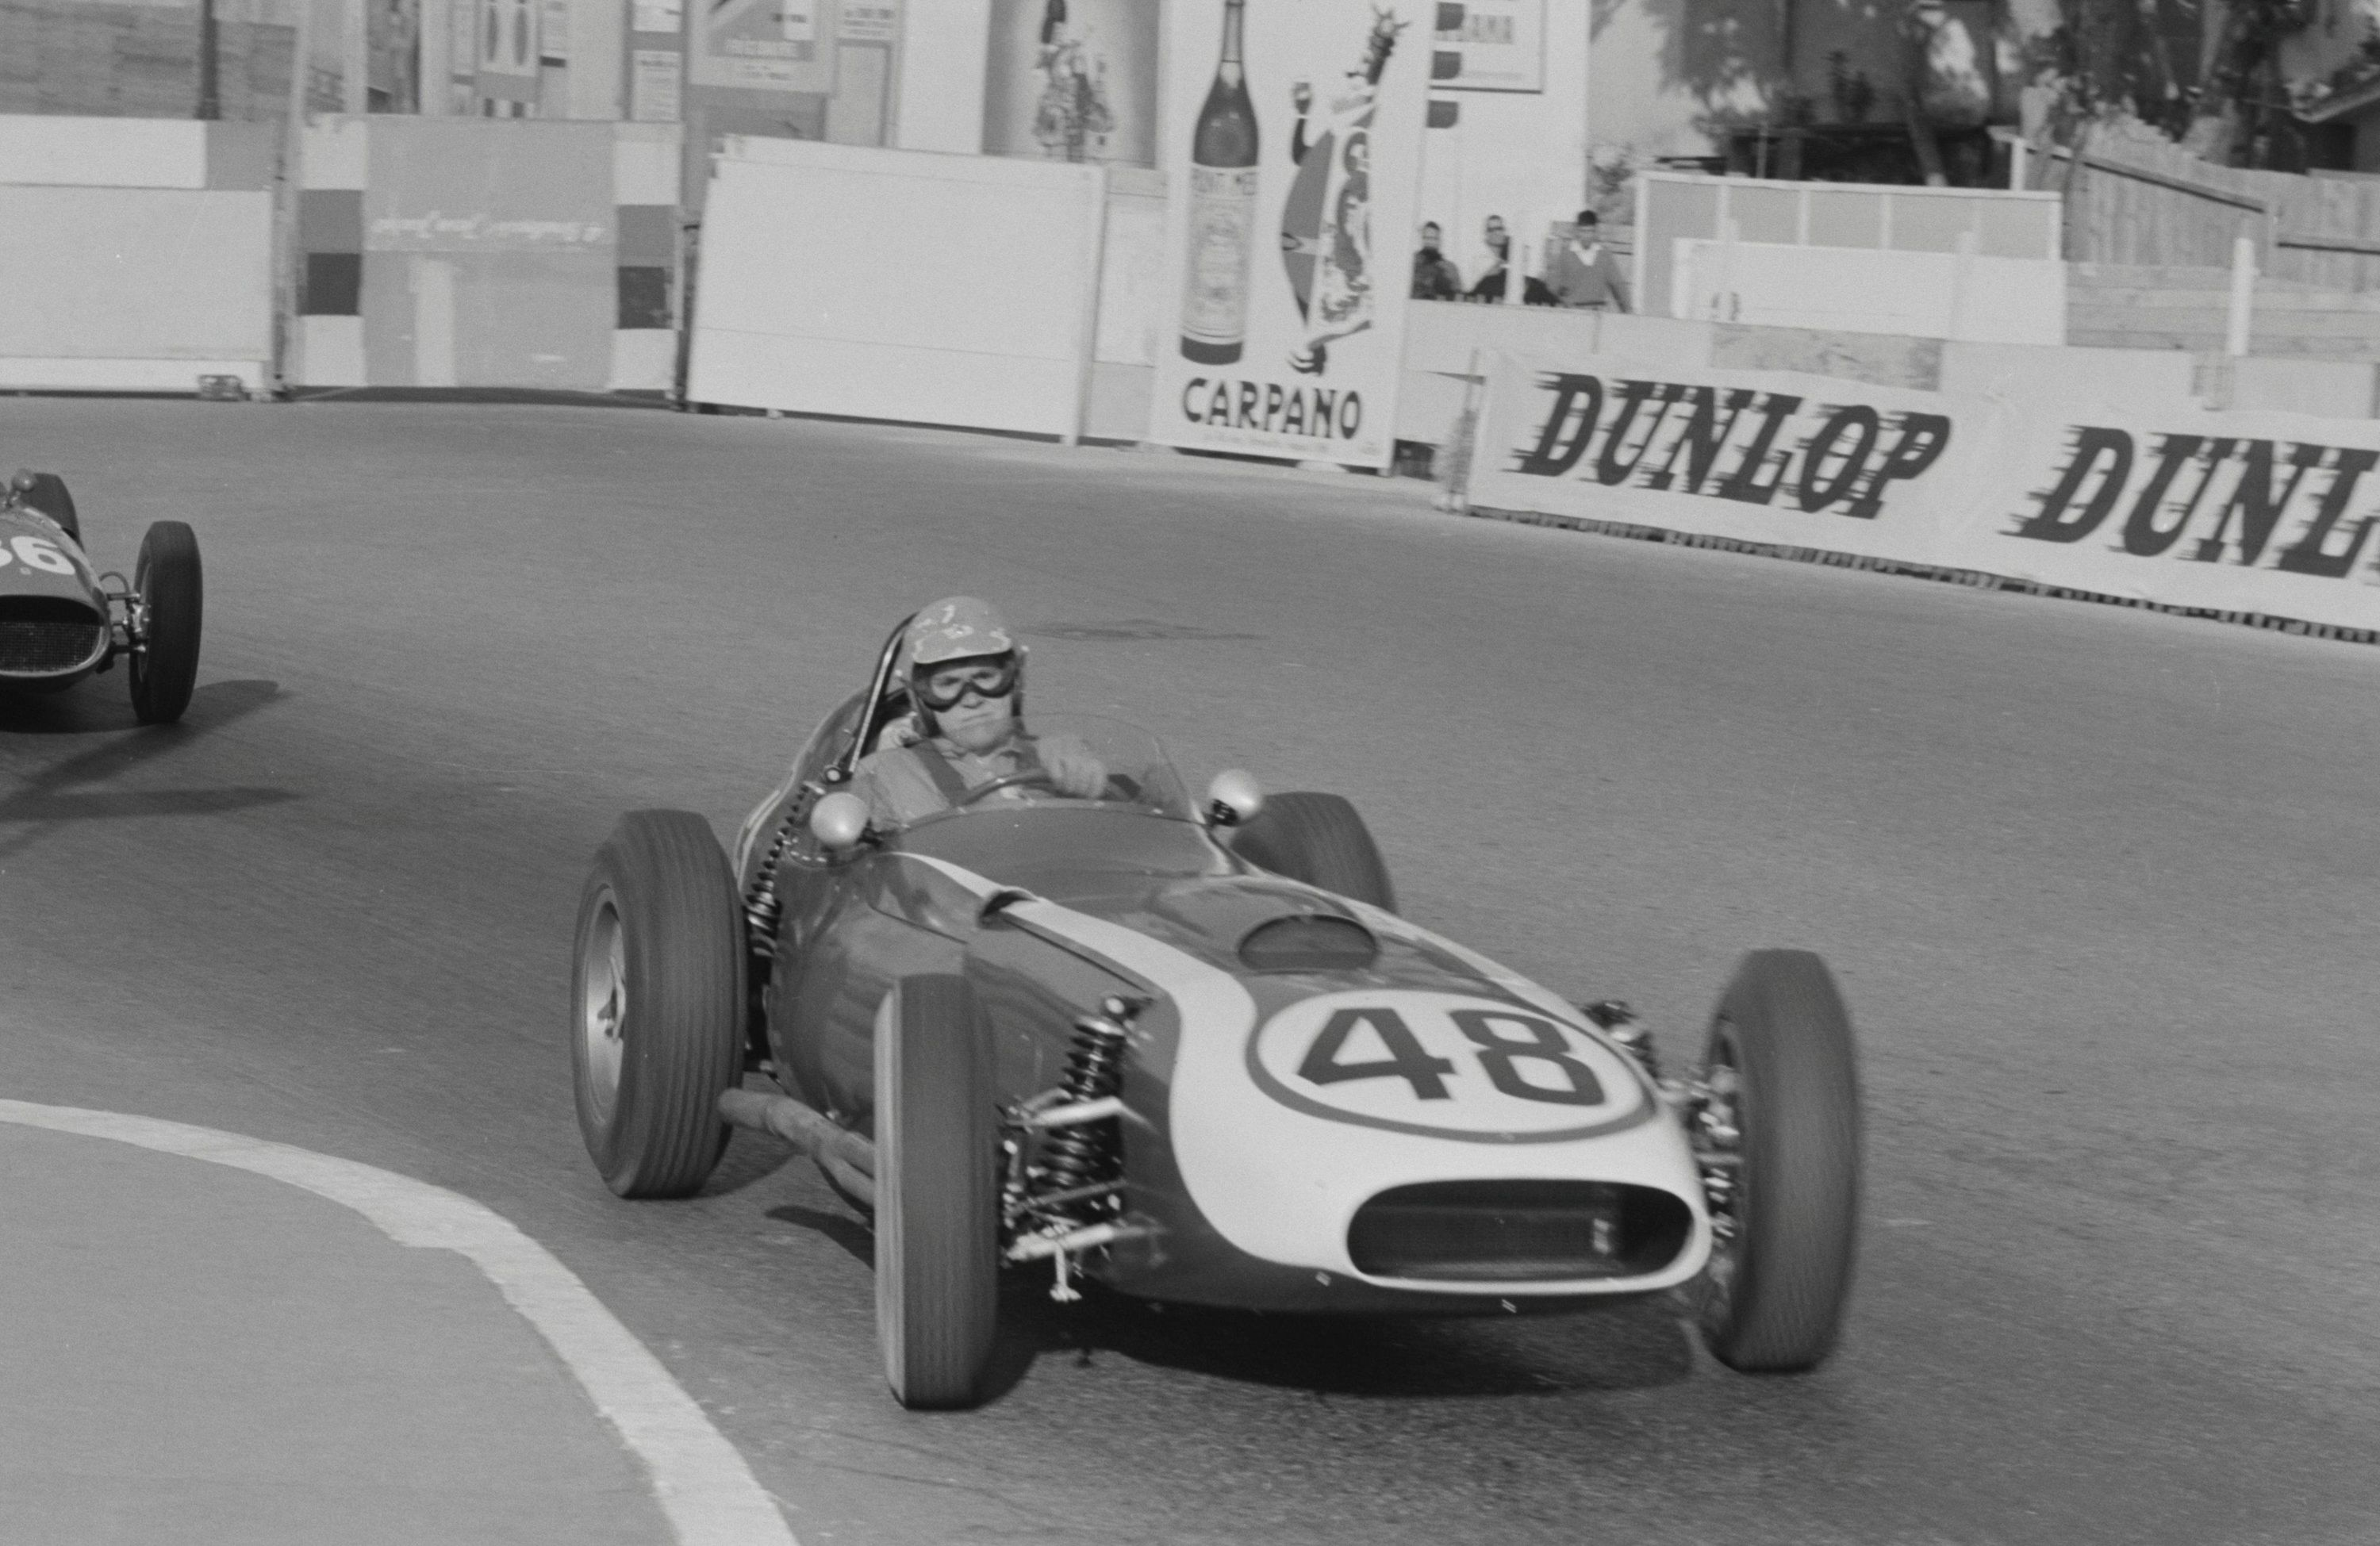f1_car: (538, 576, 1915, 1444)
